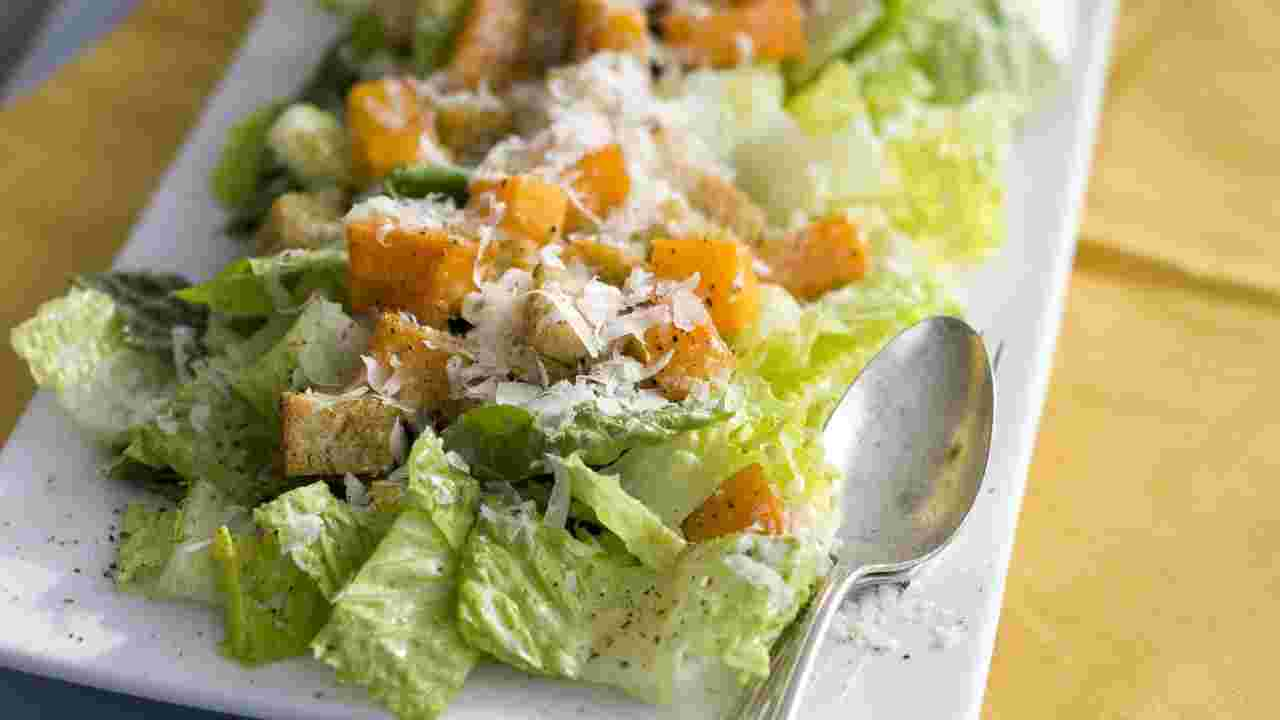chopped lettuce: (69, 335, 880, 703)
